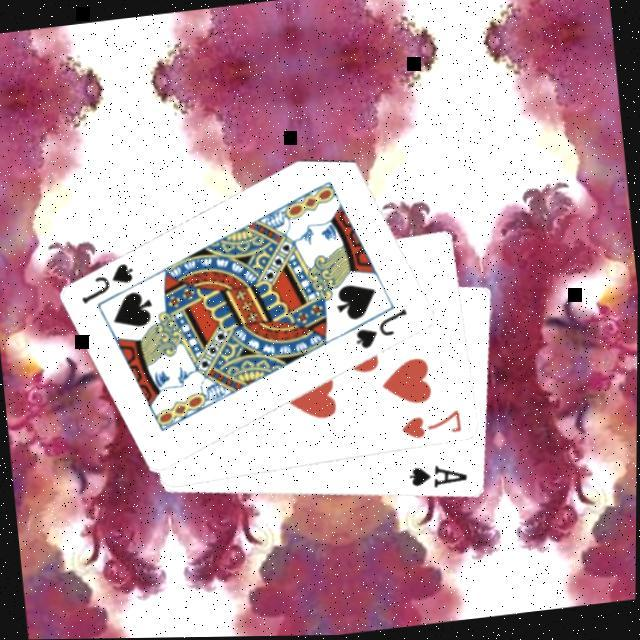7H: (395, 408, 465, 446)
AS: (404, 460, 471, 498)
JS: (73, 260, 138, 310), (348, 306, 412, 356)
